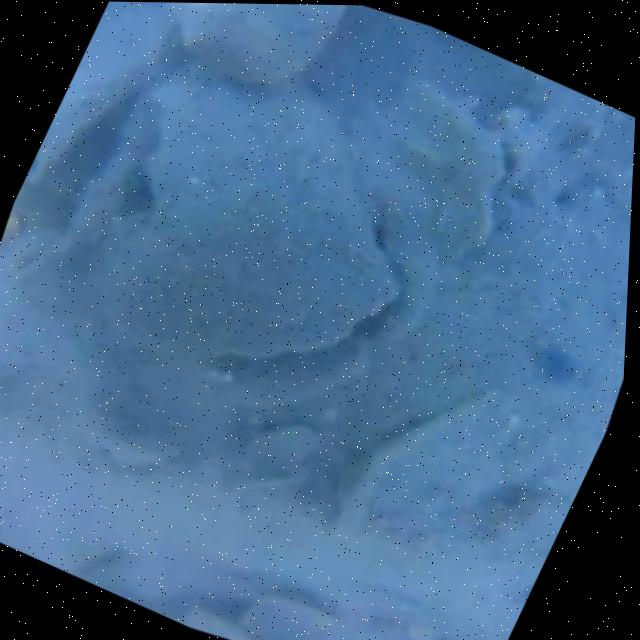Oyster-Closed: (314, 393, 595, 630)
Oyster-Indeterminate: (98, 57, 393, 351), (168, 2, 346, 75)
Oyster-Open: (0, 2, 185, 268)
